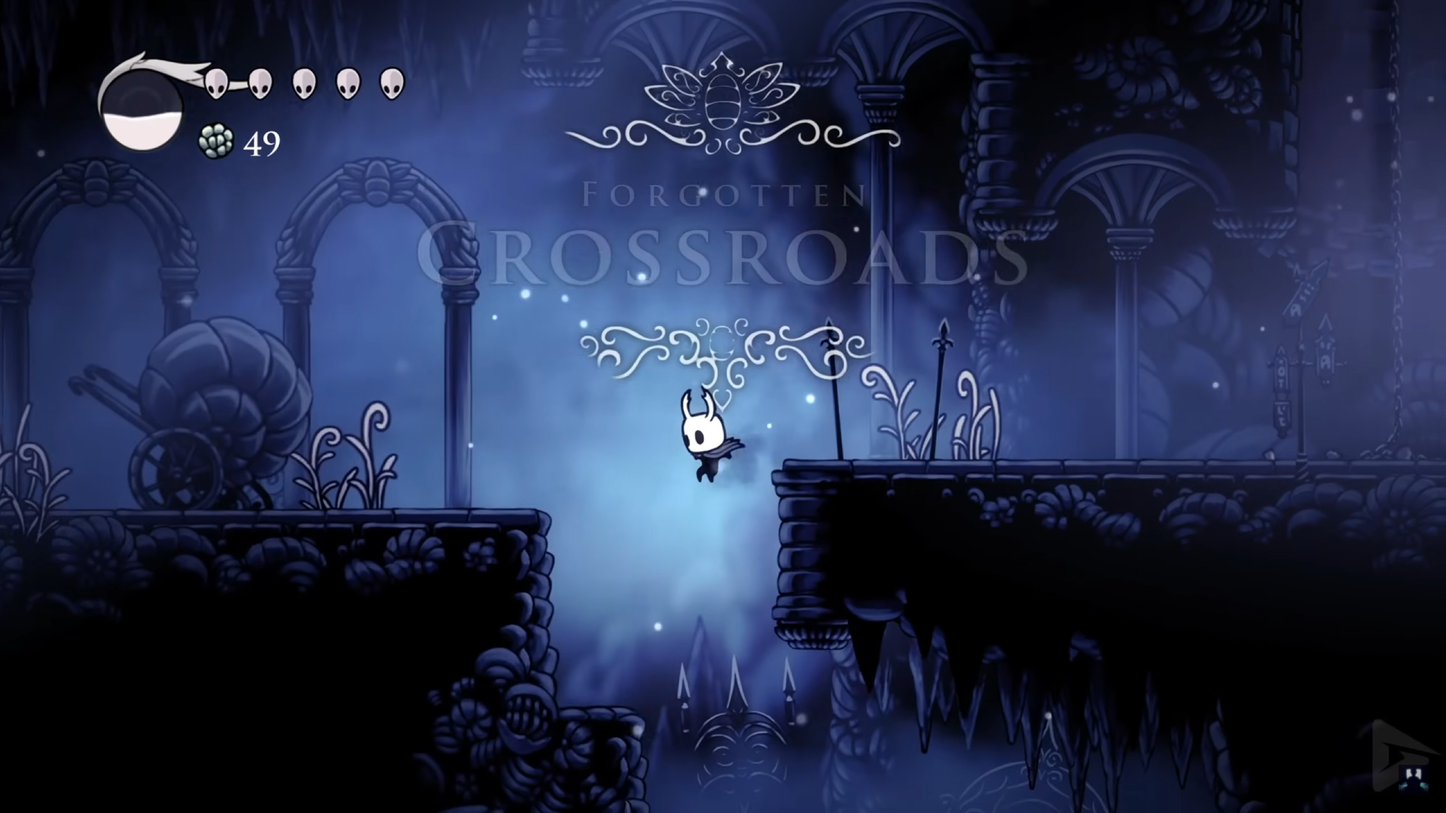HK: (672, 384, 746, 487)
